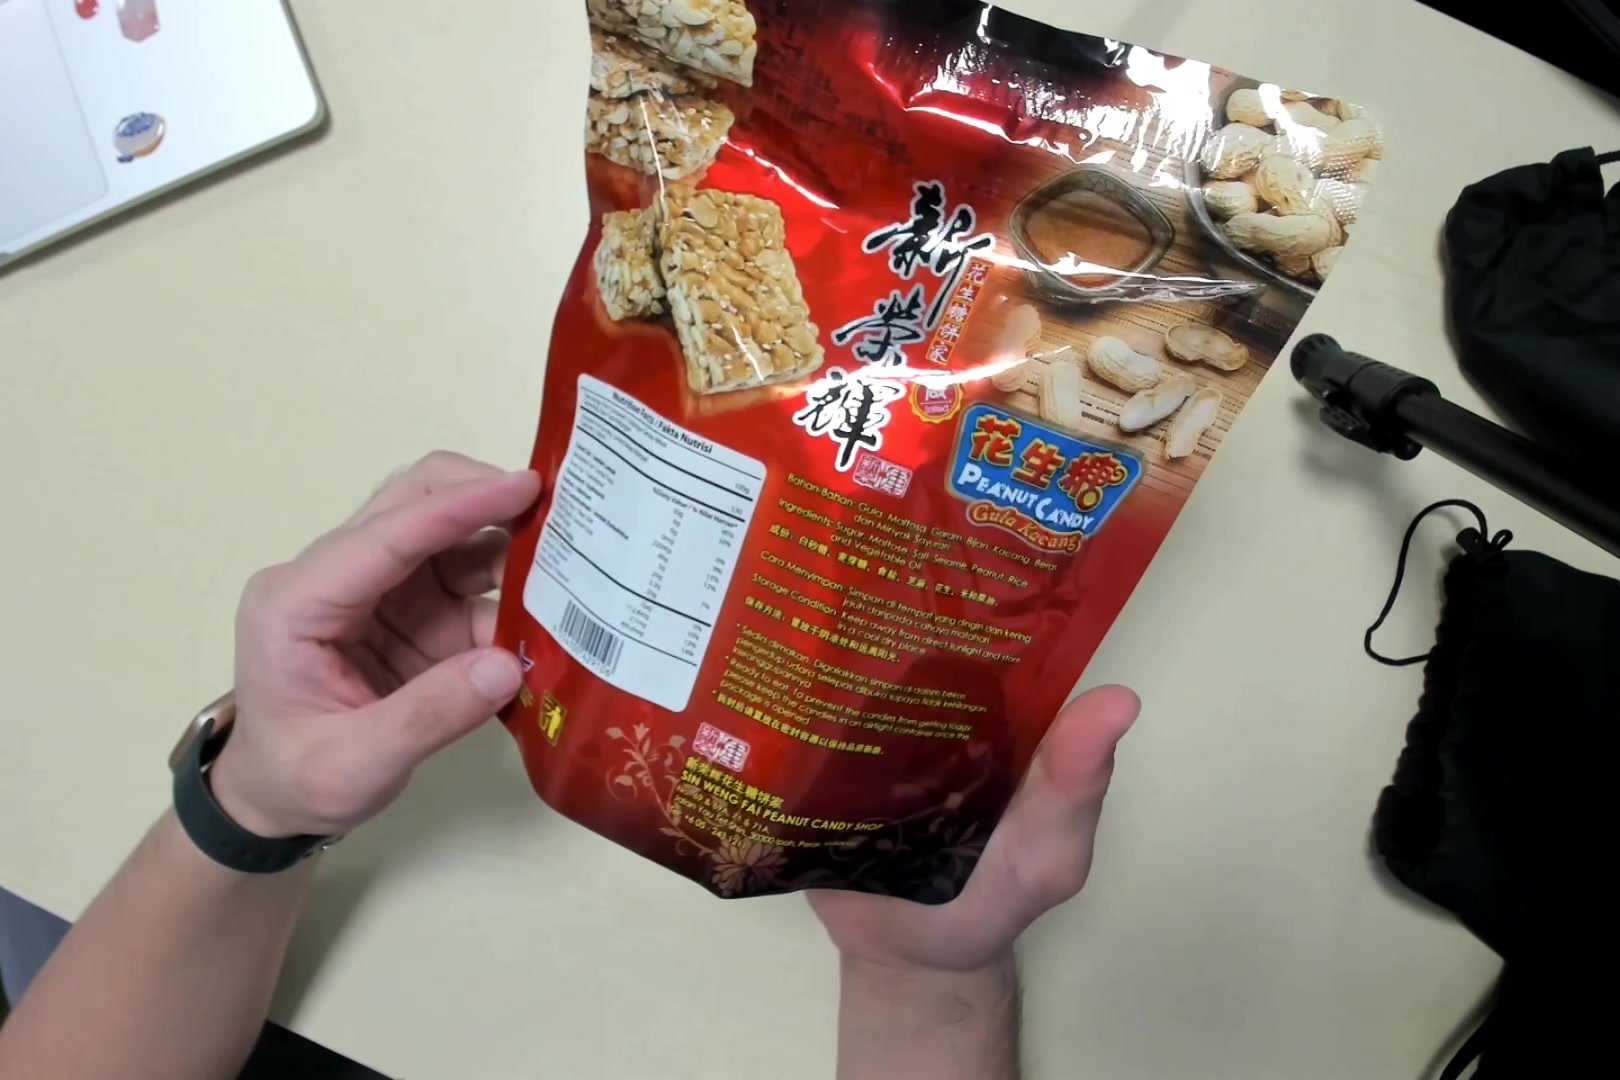SweetsChocolatesOthers_300-399g_NonHalal_NonHealthy: (487, 7, 1387, 900)
